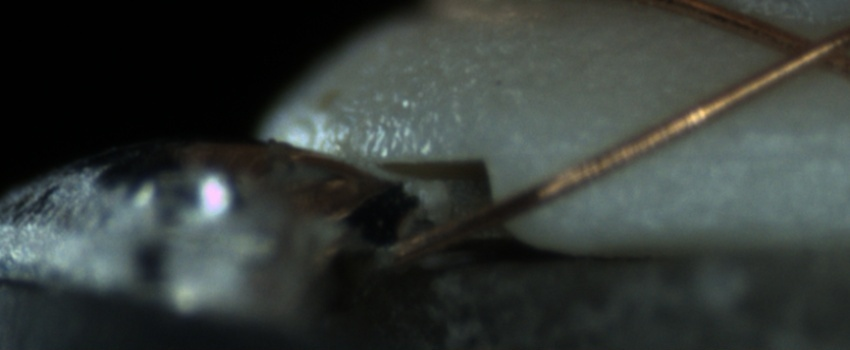CL: (758, 15, 844, 82)
DL: (567, 116, 843, 182)
